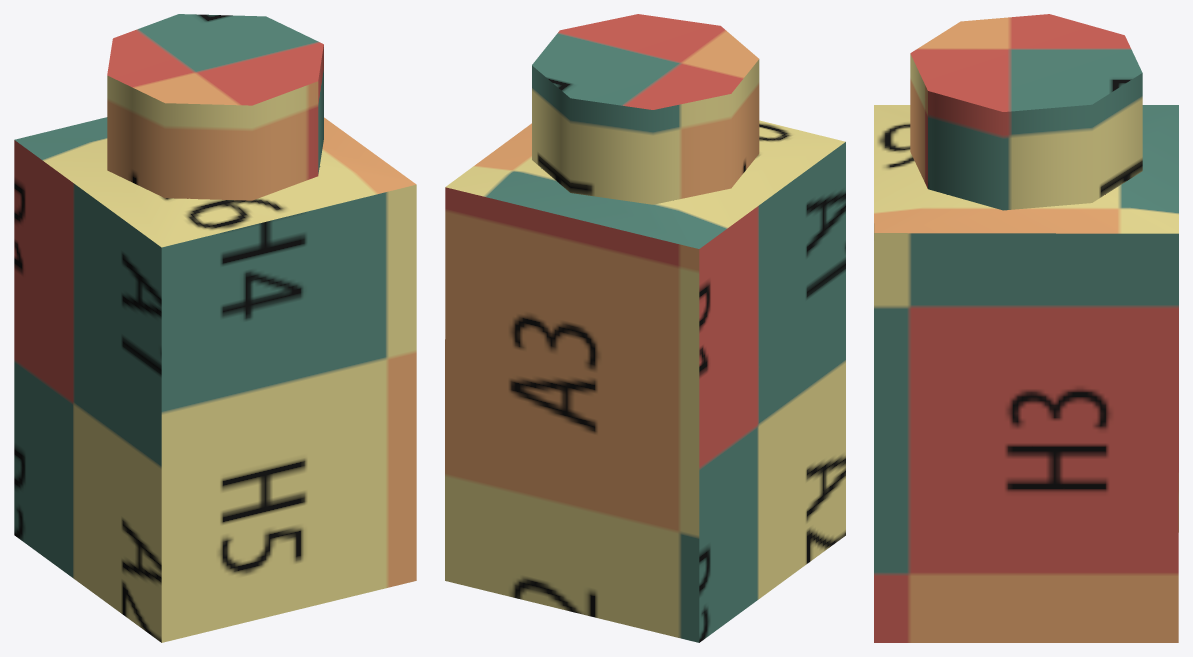
File: SM_Botlle_S_01c.fbx
3 views of the same model, side by side, from view 1: azimuth 30°, elevation 25°; view 2: azimuth 150°, elevation 25°; view 3: azimuth 270°, elevation 25° (orthographic). The views are drawn at different scales.
Visible parts, largest first — view 1: SM_Botlle_S_01c; view 2: SM_Botlle_S_01c; view 3: SM_Botlle_S_01c.
Part boxes in pixels (<box>): SM_Botlle_S_01c: <box>14,14,416,642</box>; SM_Botlle_S_01c: <box>445,14,845,642</box>; SM_Botlle_S_01c: <box>874,14,1178,642</box>.
Size of the model in its own units: 4.87 by 9.08 by 4.87.
1 material, 1 textured.
